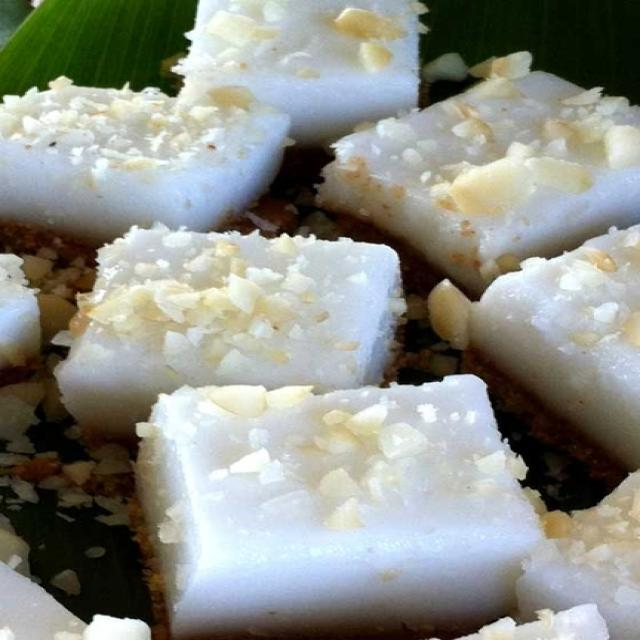蛋糕甜品: (13, 18, 612, 586)
